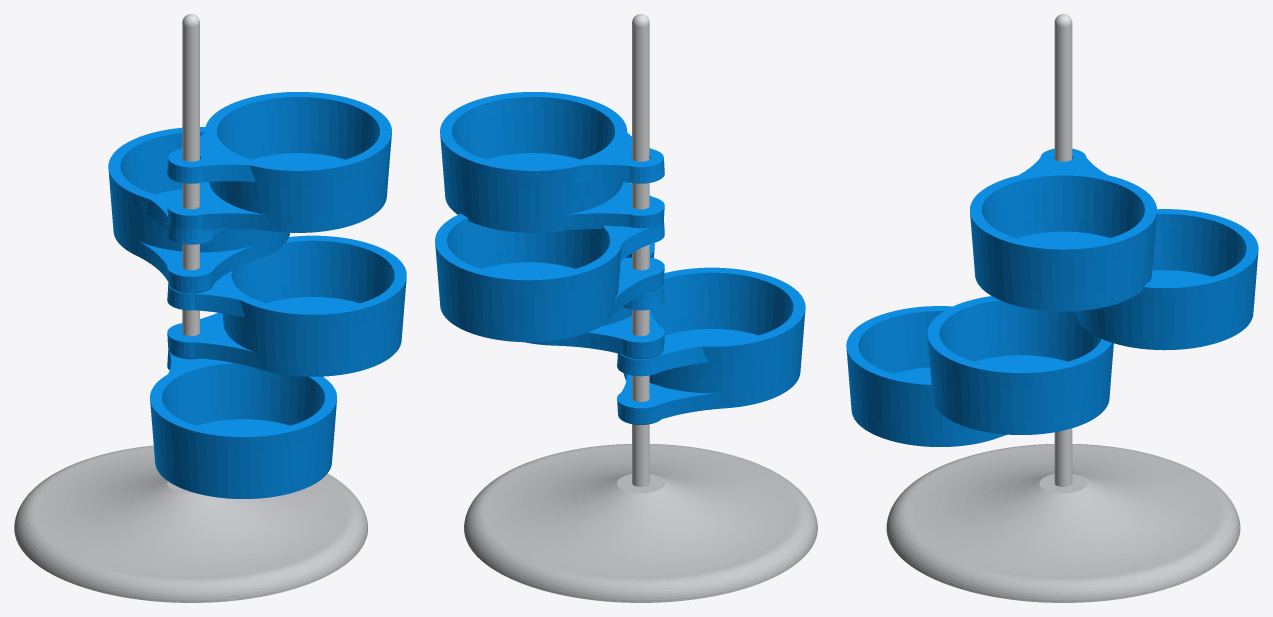
Rendered from organiser.glb.
The picture shows the model from 3 angles, left to right: view 1: azimuth 30°, elevation 25°; view 2: azimuth 150°, elevation 25°; view 3: azimuth 270°, elevation 25°; orthographic projection.
Visible parts, largest first — view 1: Base-1, cup-5, cup-3, cup-2, cup-4, pipe-1; view 2: Base-1, cup-5, cup-4, cup-2, pipe-1, cup-3; view 3: Base-1, cup-5, cup-3, cup-4, cup-2, pipe-1.
Boxes of the visible parts, box(x1,y1,x2,y2) form: Base-1: box(14, 445, 367, 602); cup-5: box(167, 92, 391, 232); cup-3: box(167, 235, 406, 376); cup-2: box(150, 350, 336, 498); cup-4: box(108, 127, 289, 293); pipe-1: box(182, 14, 199, 336); Base-1: box(464, 444, 817, 602); cup-5: box(440, 92, 664, 232); cup-4: box(435, 213, 664, 342); cup-2: box(617, 267, 805, 424); pipe-1: box(632, 14, 649, 486); cup-3: box(525, 243, 664, 359); Base-1: box(886, 444, 1240, 602); cup-5: box(970, 148, 1156, 311); cup-3: box(927, 296, 1113, 434); cup-4: box(1074, 209, 1258, 350); cup-2: box(846, 306, 1006, 446); pipe-1: box(1054, 14, 1072, 486).
Size of the model in its own units: 0.1114 by 0.16 by 0.1164.
